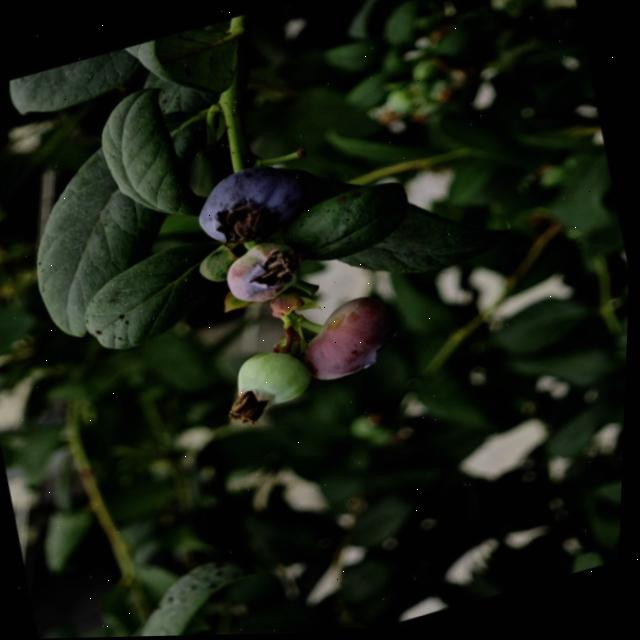RipeBlueBerry: (187, 149, 325, 257)
Semi-RipeBlueBerry: (295, 286, 410, 389), (224, 230, 312, 309)
UnripeBlueBerry: (222, 337, 319, 420)
